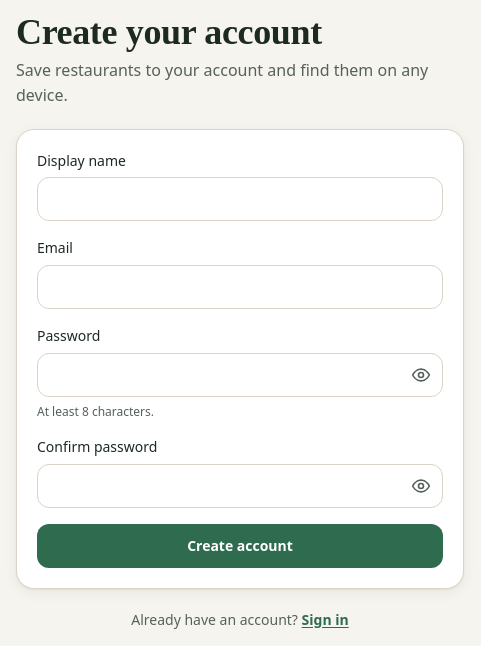
Scenario: RegisterPage › creates an account and shows the check-your-email screen
The image size is (481, 646).
Type "  Sam  " into the field labelled "Display name" at {"x": 240, "y": 199}, box [37, 177, 443, 221]
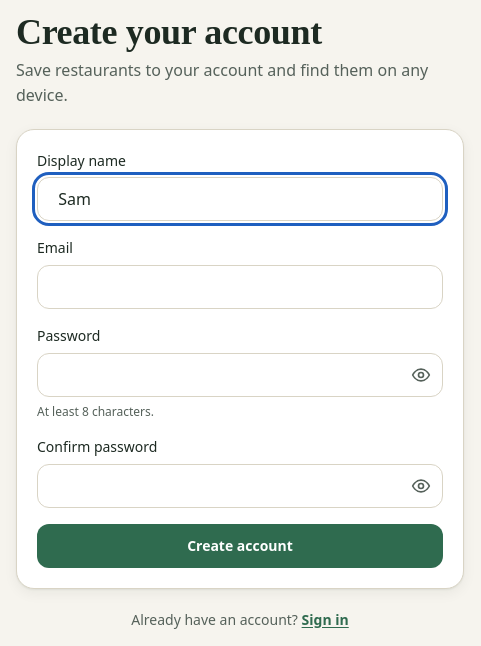
Type "sam@example.com" into the field labelled "Email" at {"x": 240, "y": 287}, box [37, 265, 443, 309]
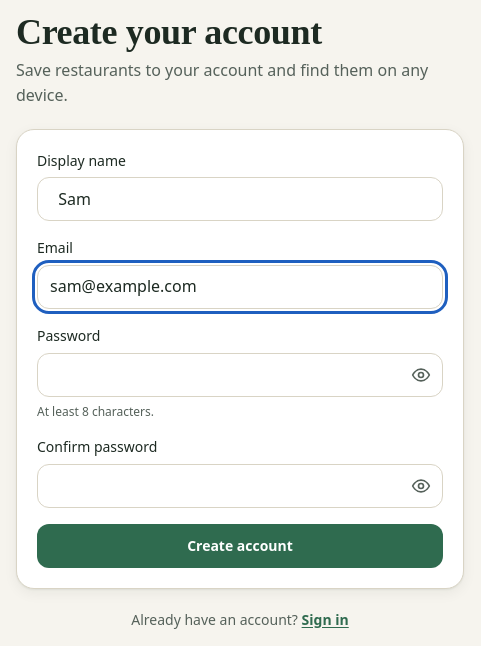
Type "longenough" into the password field labelled "Password" at {"x": 240, "y": 375}, box [37, 353, 443, 397]
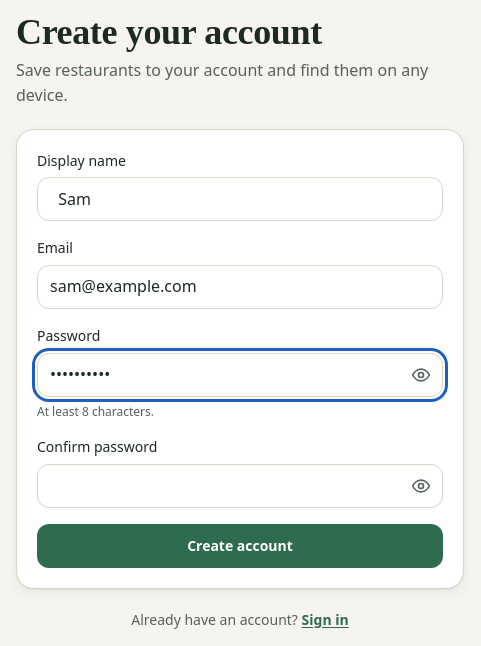
Type "longenough" into the password field labelled "Confirm password" at {"x": 240, "y": 486}, box [37, 464, 443, 508]
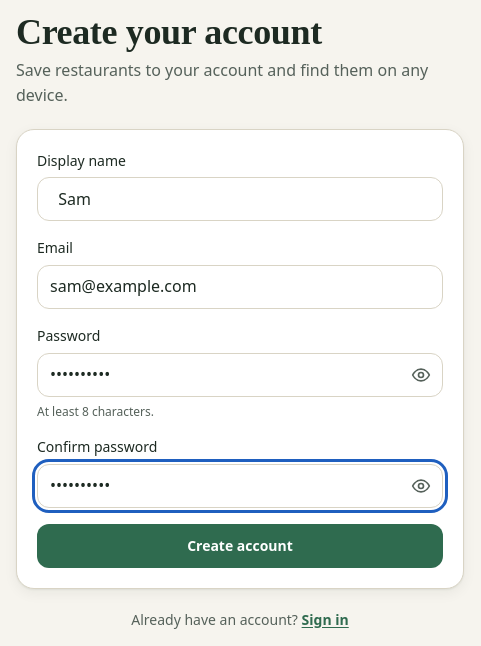
Click the button "Create account" at {"x": 240, "y": 546}, box [37, 524, 443, 568]
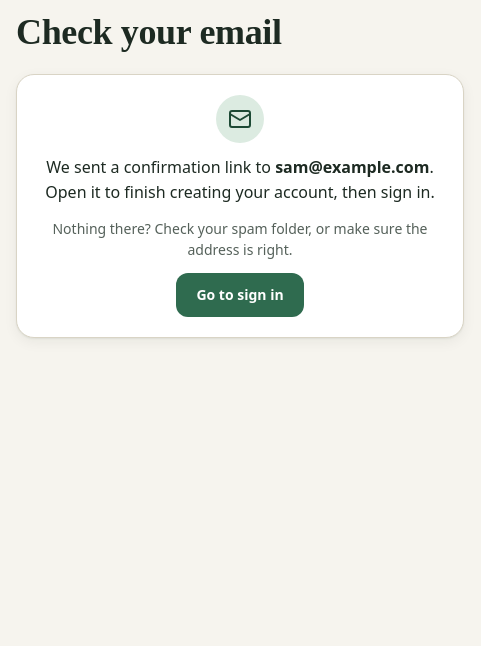
Now the heading "Check your email" is shown, box [16, 12, 282, 52]
Now the text "sam@example.com" is shown, box [275, 156, 430, 178]
